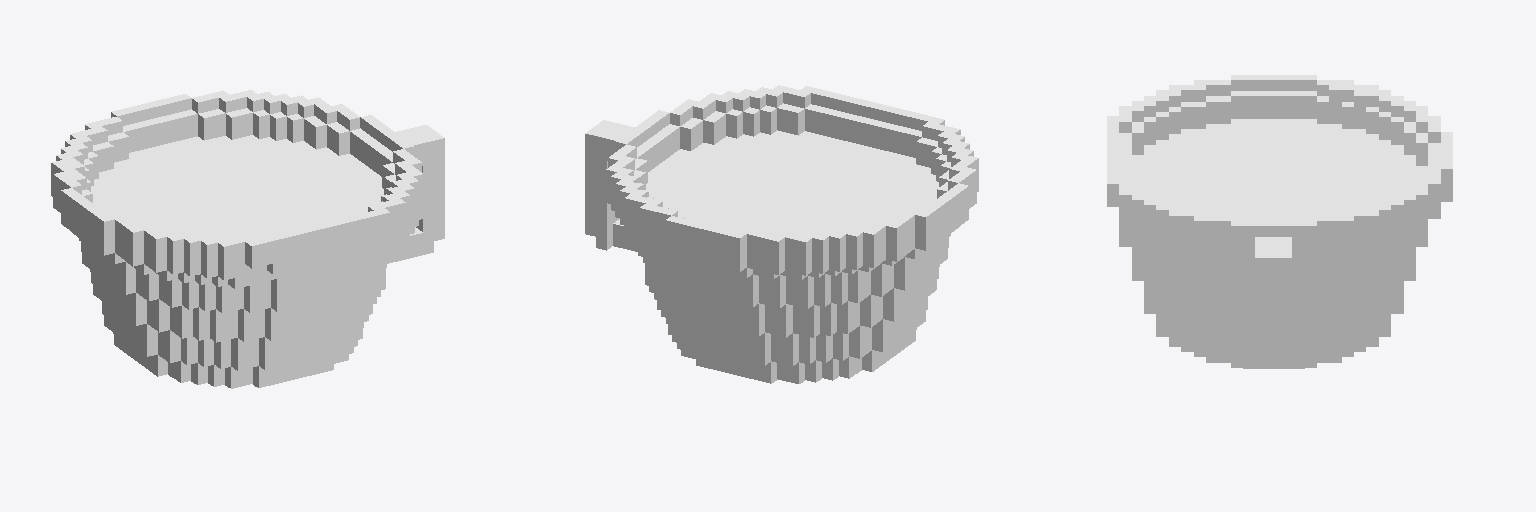
The model's file is CoffeeCup.obj.
The picture shows the model from 3 angles: view 1: azimuth 30°, elevation 25°; view 2: azimuth 150°, elevation 25°; view 3: azimuth 270°, elevation 25°; orthographic projection.
Size of the model in its own units: 33 by 17 by 28.